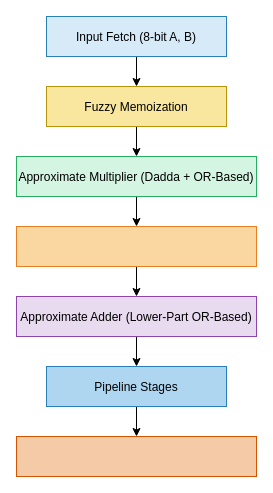
Image size: 273x493. Some labels were removed from this diagram. The shapes that lost their labels are listed below. From the top down, each one's centre as x and y in pixels, then its label:
At [136,246]: "Partial Product Reduction (Compressors)".
At [136,456]: "Integration with RISC-V SoC".
